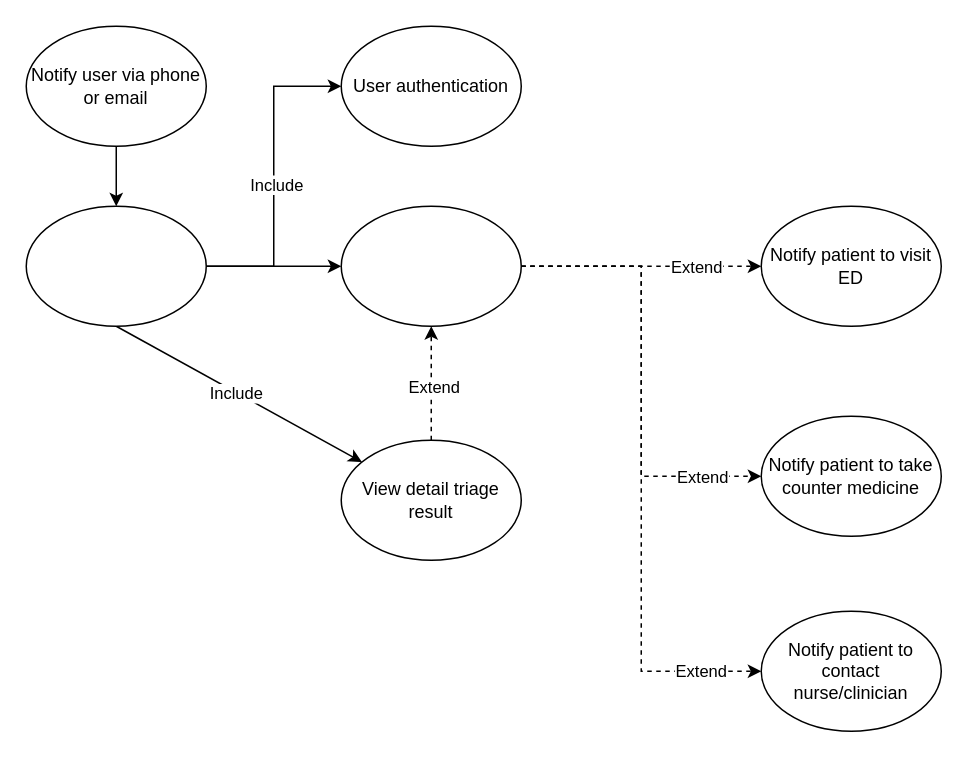
The diagram is 968 pixels wide and 758 high, and some of its shapes have lost their labels. The centre of each missing label's shape, as x and y in pixels:
"Notify patient the action they should take" belongs at [430,265].
"Summary triage result site" belongs at [115,265].
